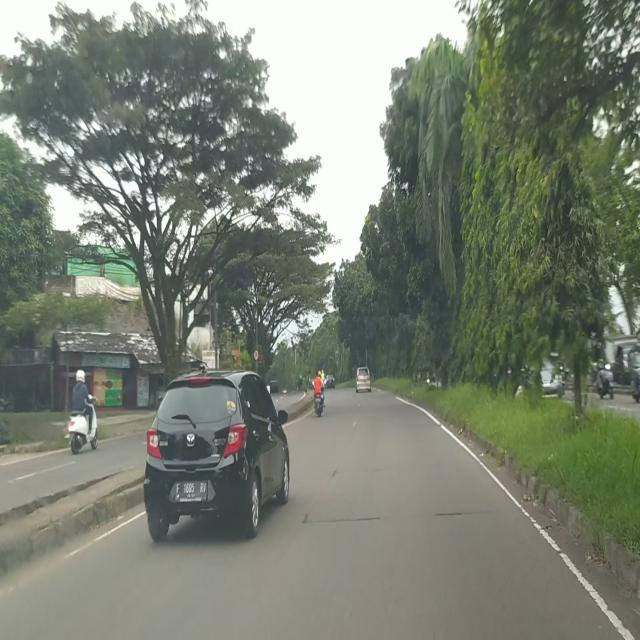Sewer Cover: (304, 510, 524, 526)
